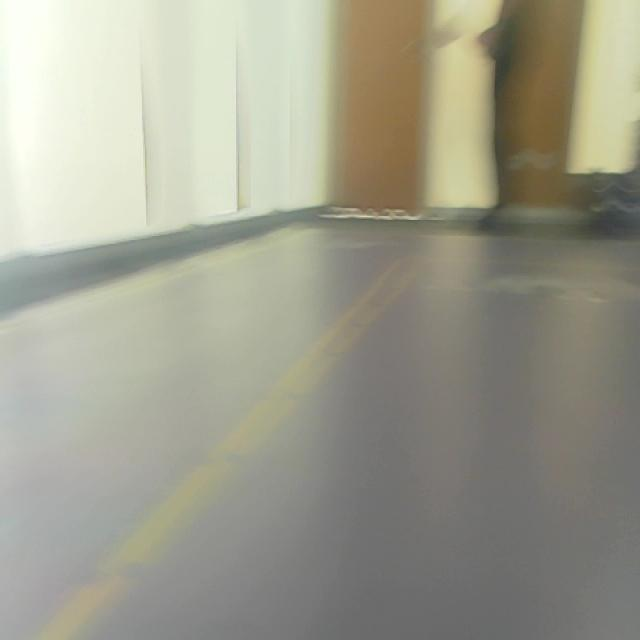left_lane: (45, 266, 393, 636)
